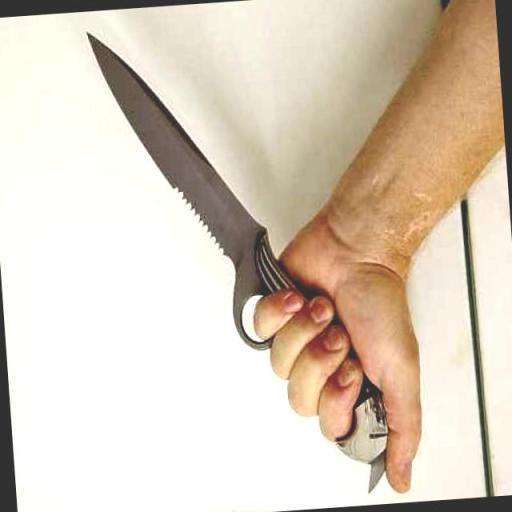knife: (84, 5, 403, 512)
